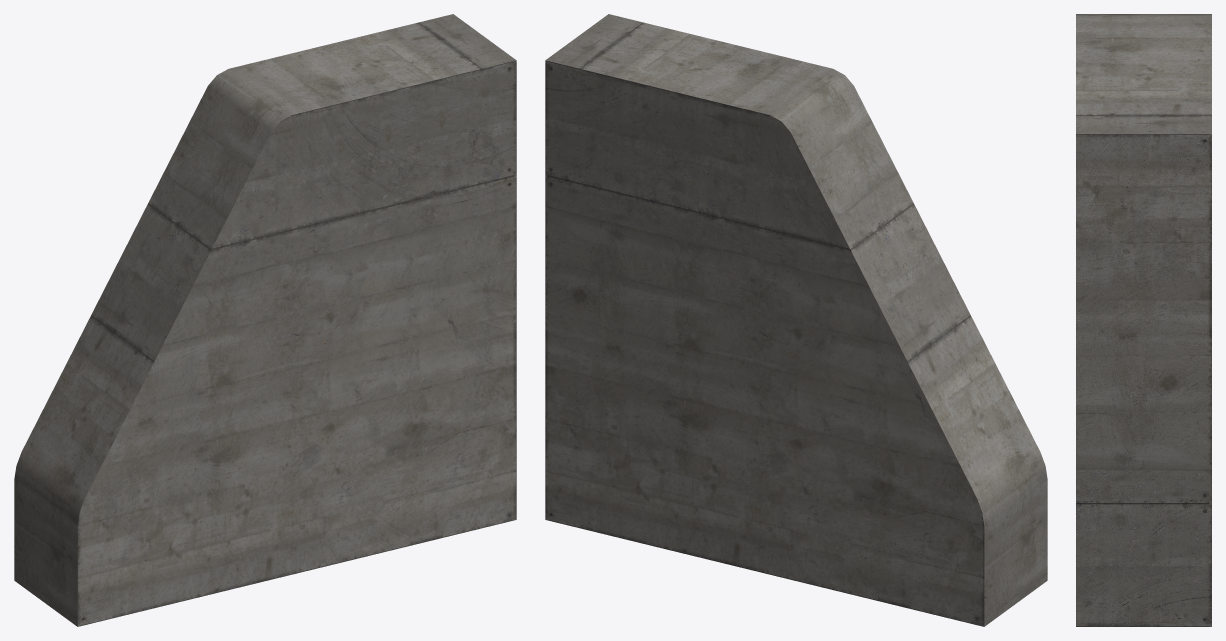
Rendered from CP_Balcony_Wall_01.fbx.
3 views of the same model, side by side, from view 1: azimuth 30°, elevation 25°; view 2: azimuth 150°, elevation 25°; view 3: azimuth 270°, elevation 25° (orthographic). The views are drawn at different scales.
Parts seen in each view (by area): view 1: CP_Balcony_Wall_01; view 2: CP_Balcony_Wall_01; view 3: CP_Balcony_Wall_01.
Part boxes in pixels (x1=…): CP_Balcony_Wall_01: x1=14, y1=14, x2=516, y2=626; CP_Balcony_Wall_01: x1=545, y1=14, x2=1047, y2=626; CP_Balcony_Wall_01: x1=1076, y1=14, x2=1211, y2=626.
Size of the model in its own units: 400 by 400 by 100.
